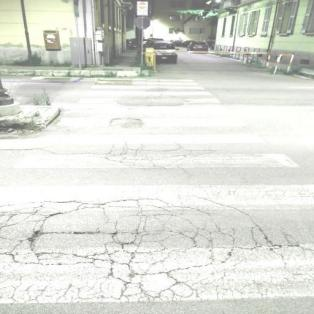Paso de Cebra: (9, 132, 306, 178), (55, 103, 252, 126)
